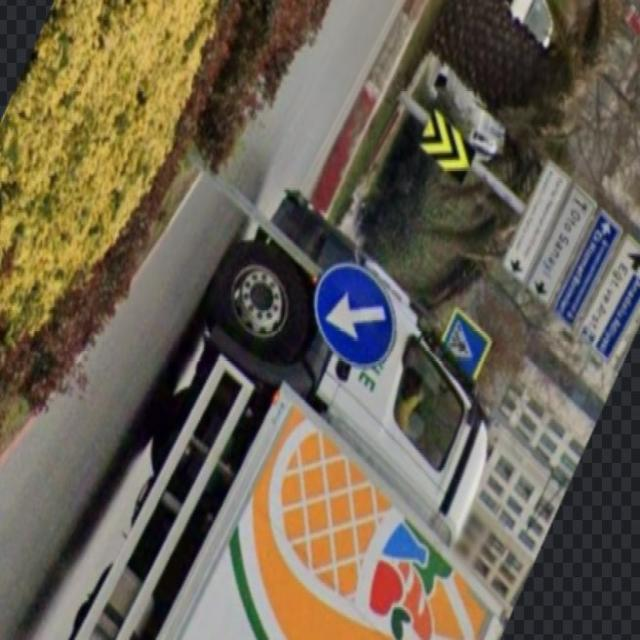Turn Left: (312, 266, 398, 372)
